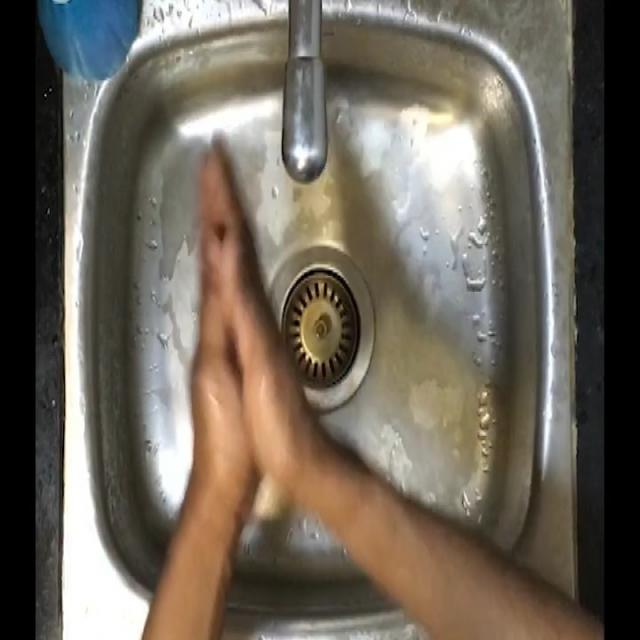step_1: (154, 110, 311, 485)
